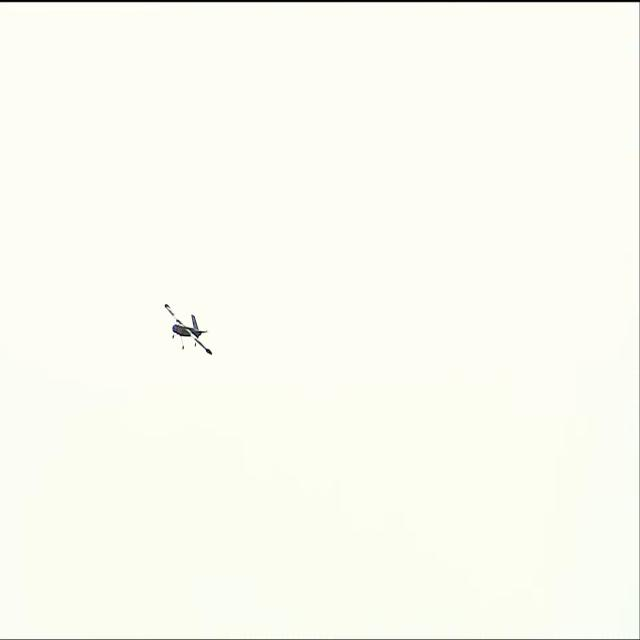iha: (164, 297, 213, 352)
